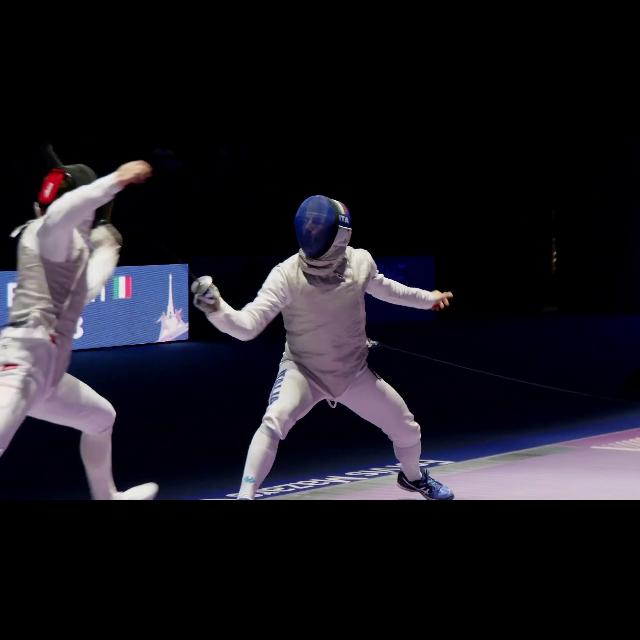blade: (131, 211, 217, 307)
